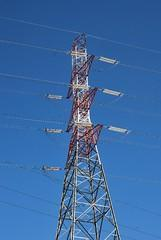power_tower: (29, 29, 129, 240)
